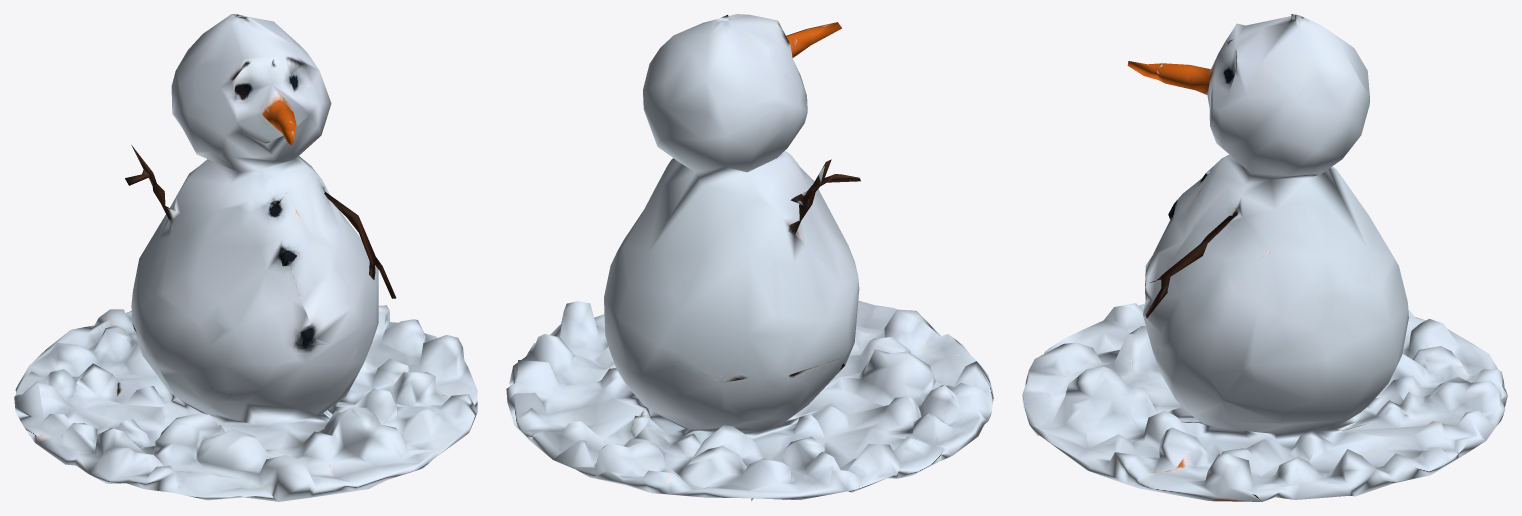
Rendered from snowman.glb.
3 renders of one model, left to right at view 1: azimuth 30°, elevation 25°; view 2: azimuth 150°, elevation 25°; view 3: azimuth 270°, elevation 25°, orthographic. The views are drawn at different scales.
Size of the model in its own units: 1.9 by 1.7 by 1.89.
1 material, 1 textured.
